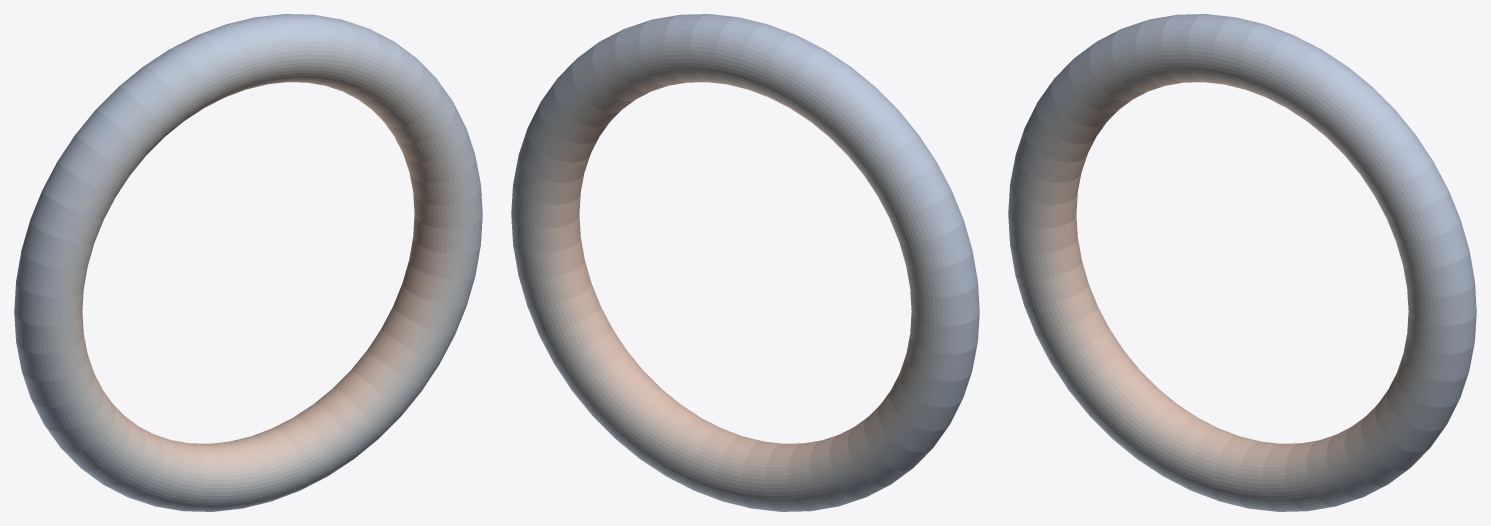
3 renders of one model, left to right at view 1: azimuth 30°, elevation 25°; view 2: azimuth 150°, elevation 25°; view 3: azimuth 330°, elevation 25°, orthographic.
Visible parts, largest first — view 1: world; view 2: world; view 3: world.
Part boxes in pixels (x1,y1,x2,y2): world: (14,14,482,511); world: (511,14,979,511); world: (1008,14,1476,511).
Bounding box in the file's own units: 32.13 × 32.07 × 4.13.
